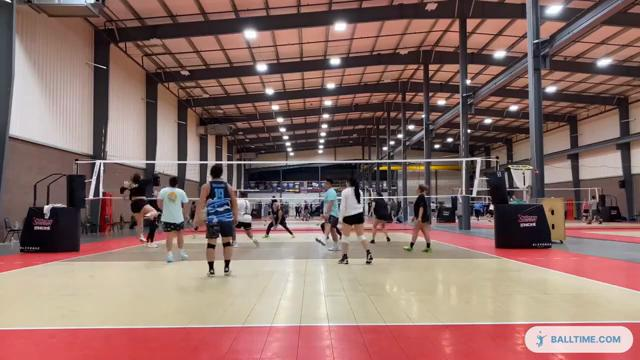attacco: (118, 170, 158, 243)
